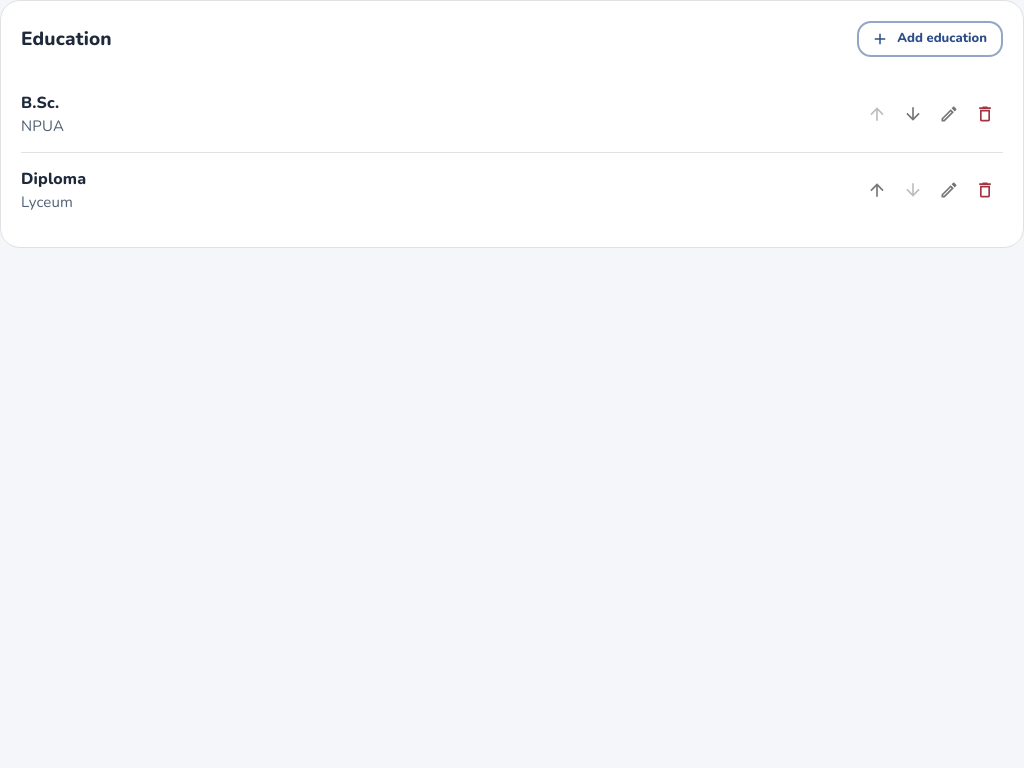
Test case: SectionEditor › unsaved dialog values › Escape on a dirty dialog asks first; Cancel is the explicit discard
The width and height of the screenshot is (1024, 768).
Click the button "Add education" at (930, 39), box [857,21,1003,57]
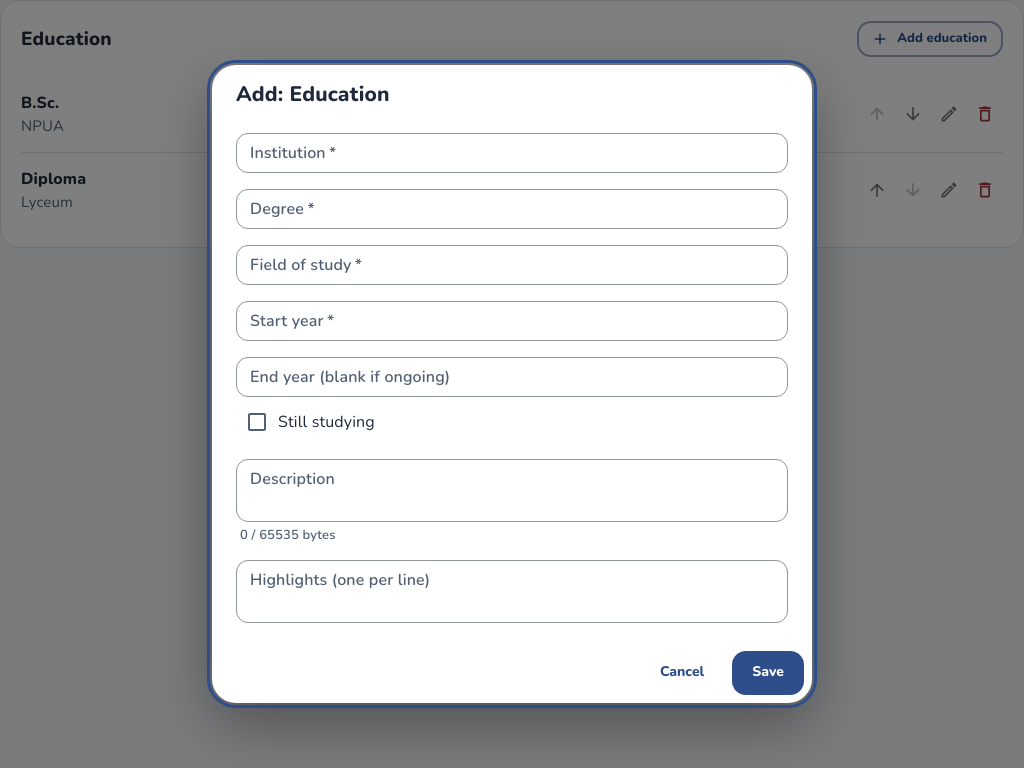
Type "MIT" into the field labelled "Institution *" at (512, 152), box [236,132,788,172]
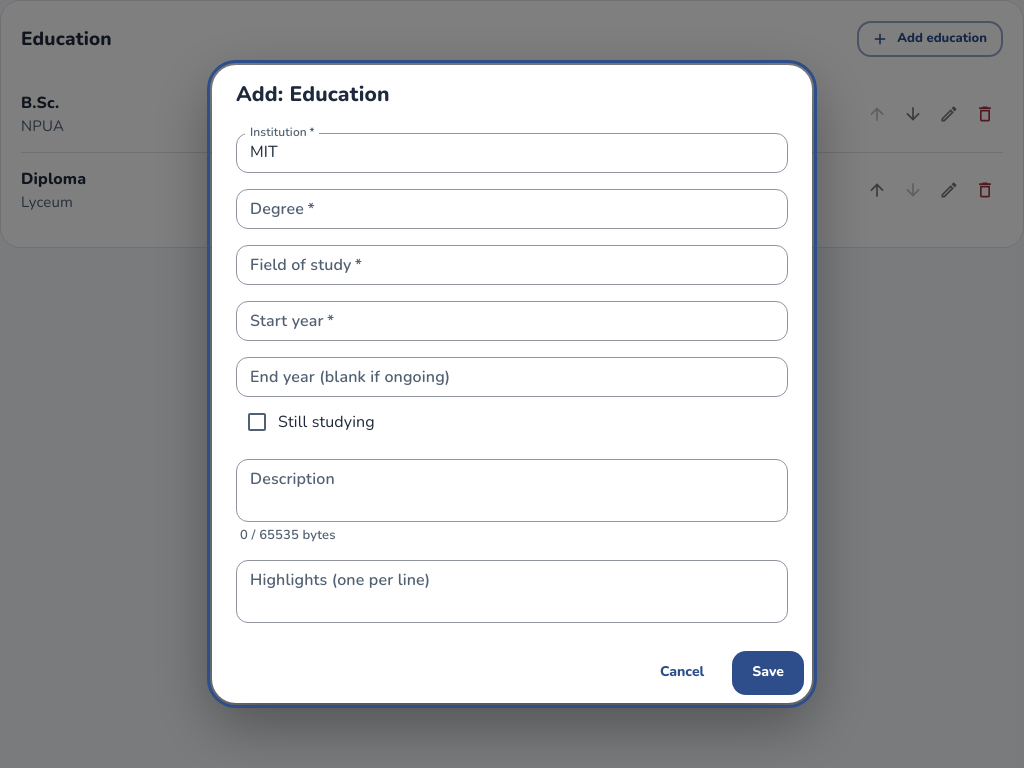
Press Escape in the dialog, box [212,65,812,703]
Check: the dialog is shown, box [212,65,812,703]
Click the button "Cancel" at (682, 673), box [640,651,724,695]
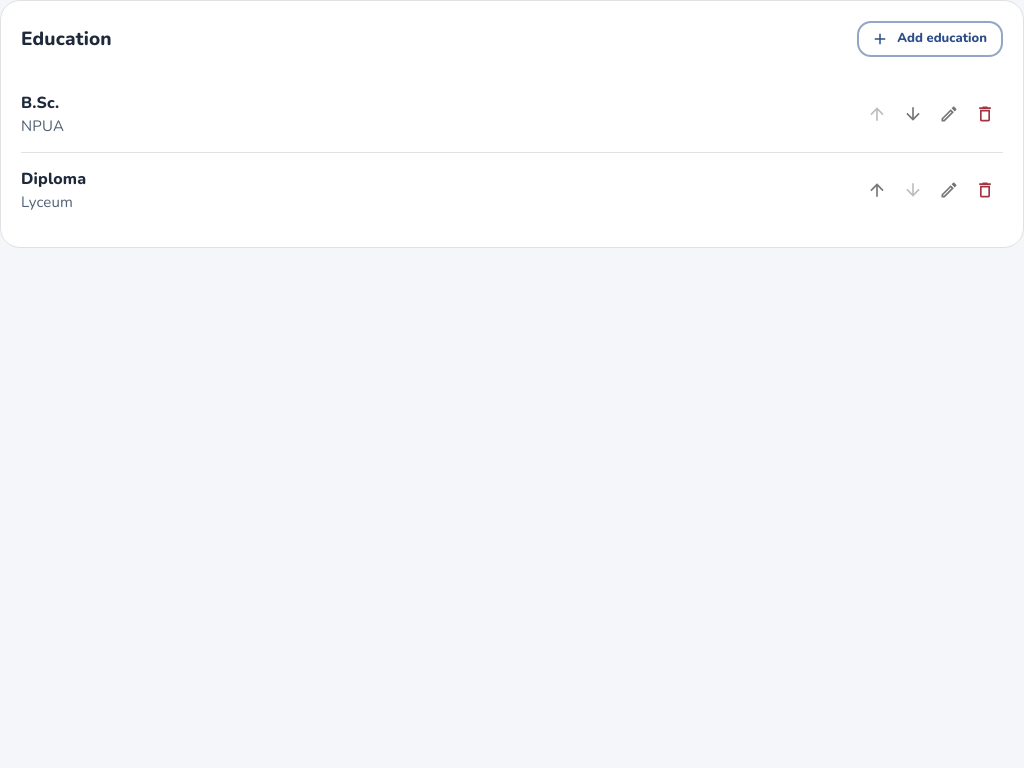
Check: the dialog is gone
